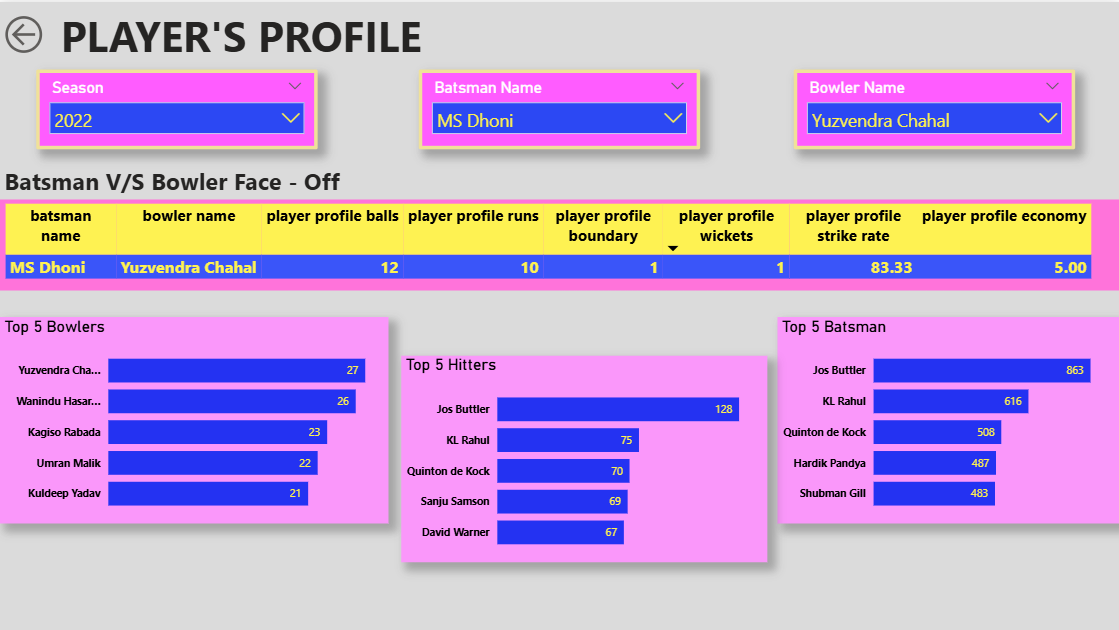

This screenshot's page, from the dashboard's own definition file:
{"tool":"powerbi","page":{"name":"player profile","canvas":[1280,720],"ordinal":3},"visuals":[{"type":"textbox","box":[64.3,0,435.7,77.1],"z":0},{"type":"actionButton","box":[0,10,82.9,54.3],"z":1000},{"type":"slicer","fields":{"Values":["season_details.batsman1_name"]},"box":[478.8,77.5,321.2,91.2],"z":2000},{"type":"slicer","fields":{"Values":["season_details.bowler1_name"]},"box":[907.5,77.5,321.2,91.2],"z":3000},{"type":"slicer","fields":{"Values":["season_summary.season"]},"box":[41.2,77.5,321.2,91.2],"z":4000},{"type":"tableEx","fields":{"Values":["season_details.batsman1_name","season_details.bowler1_name","season_details.player profile balls","season_details.player profile runs","season_details.player profile boundary","season_details.player profile wickets","season_details.player profile strike rate","season_details.player profile economy"]},"box":[0,225.7,1280,104.3],"z":5000},{"type":"textbox","box":[0,181.2,412.5,45],"z":6000},{"type":"clusteredBarChart","title":"Top 5 Bowlers","fields":{"Category":["season_details.bowler1_name"],"Y":["season_bowling_card.wickets player profile"]},"box":[0,360,444.3,235.7],"z":7000},{"type":"clusteredBarChart","title":"Top 5 Batsman","fields":{"Category":["season_details.batsman1_name"],"Y":["season_batting_card.runs player profile"]},"box":[888.6,360,391.4,235.7],"z":8000},{"type":"clusteredBarChart","title":"Top 5 Hitters","fields":{"Category":["season_details.batsman1_name"],"Y":["season_batting_card.boundaries player profile"]},"box":[458.6,404.3,418.6,235.7],"z":9000}]}

Visuals, with their boxes in screenshot pixels (x1, y1, x2, y2), scaled from the page's 1280x720 canvas onto the 1119x630 screenshot:
textbox: [56,0,437,67]
actionButton: [0,9,72,56]
slicer - season_details.batsman1_name: [419,68,699,148]
slicer - season_details.bowler1_name: [793,68,1074,148]
slicer - season_summary.season: [36,68,317,148]
tableEx - season_details.batsman1_name x season_details.bowler1_name: [0,197,1118,289]
textbox: [0,159,361,198]
"Top 5 Bowlers" clusteredBarChart: [0,315,388,521]
"Top 5 Batsman" clusteredBarChart: [777,315,1118,521]
"Top 5 Hitters" clusteredBarChart: [401,354,767,560]
